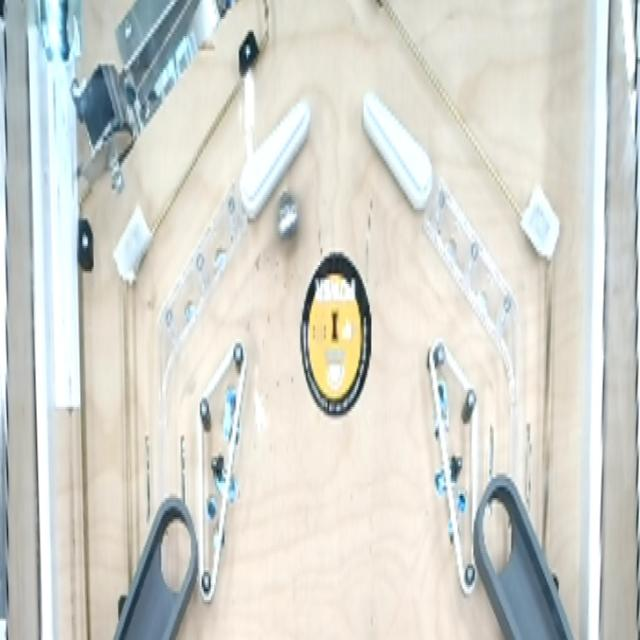ball: (273, 185, 302, 247)
flipper-left: (358, 84, 439, 220)
flipper-right: (237, 89, 313, 221)
